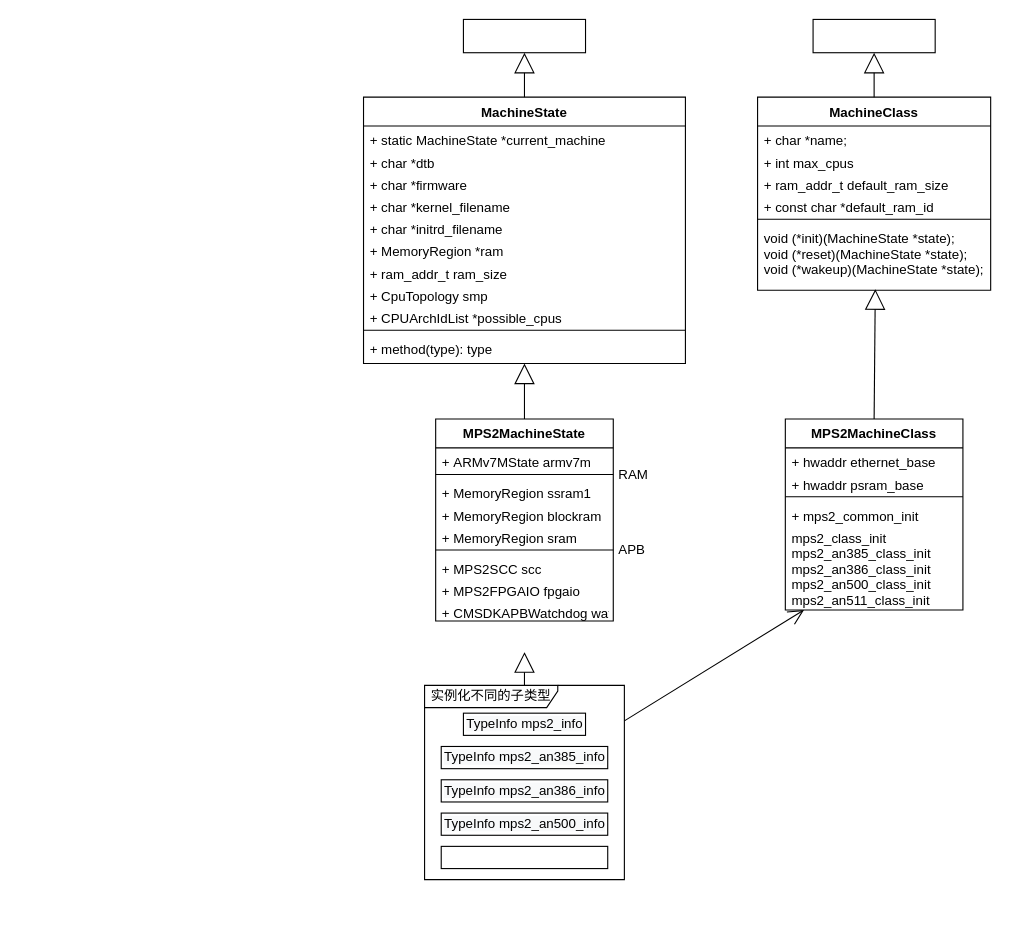
This 1010x927 diagram has some shape labels left out. Here are the shapes that lost their labels. From the top down, the centre of each, then its label:
(x=524, y=35): Object
(x=873, y=35): ObjectClass
(x=524, y=857): TypeInfo mps2_an511_info
